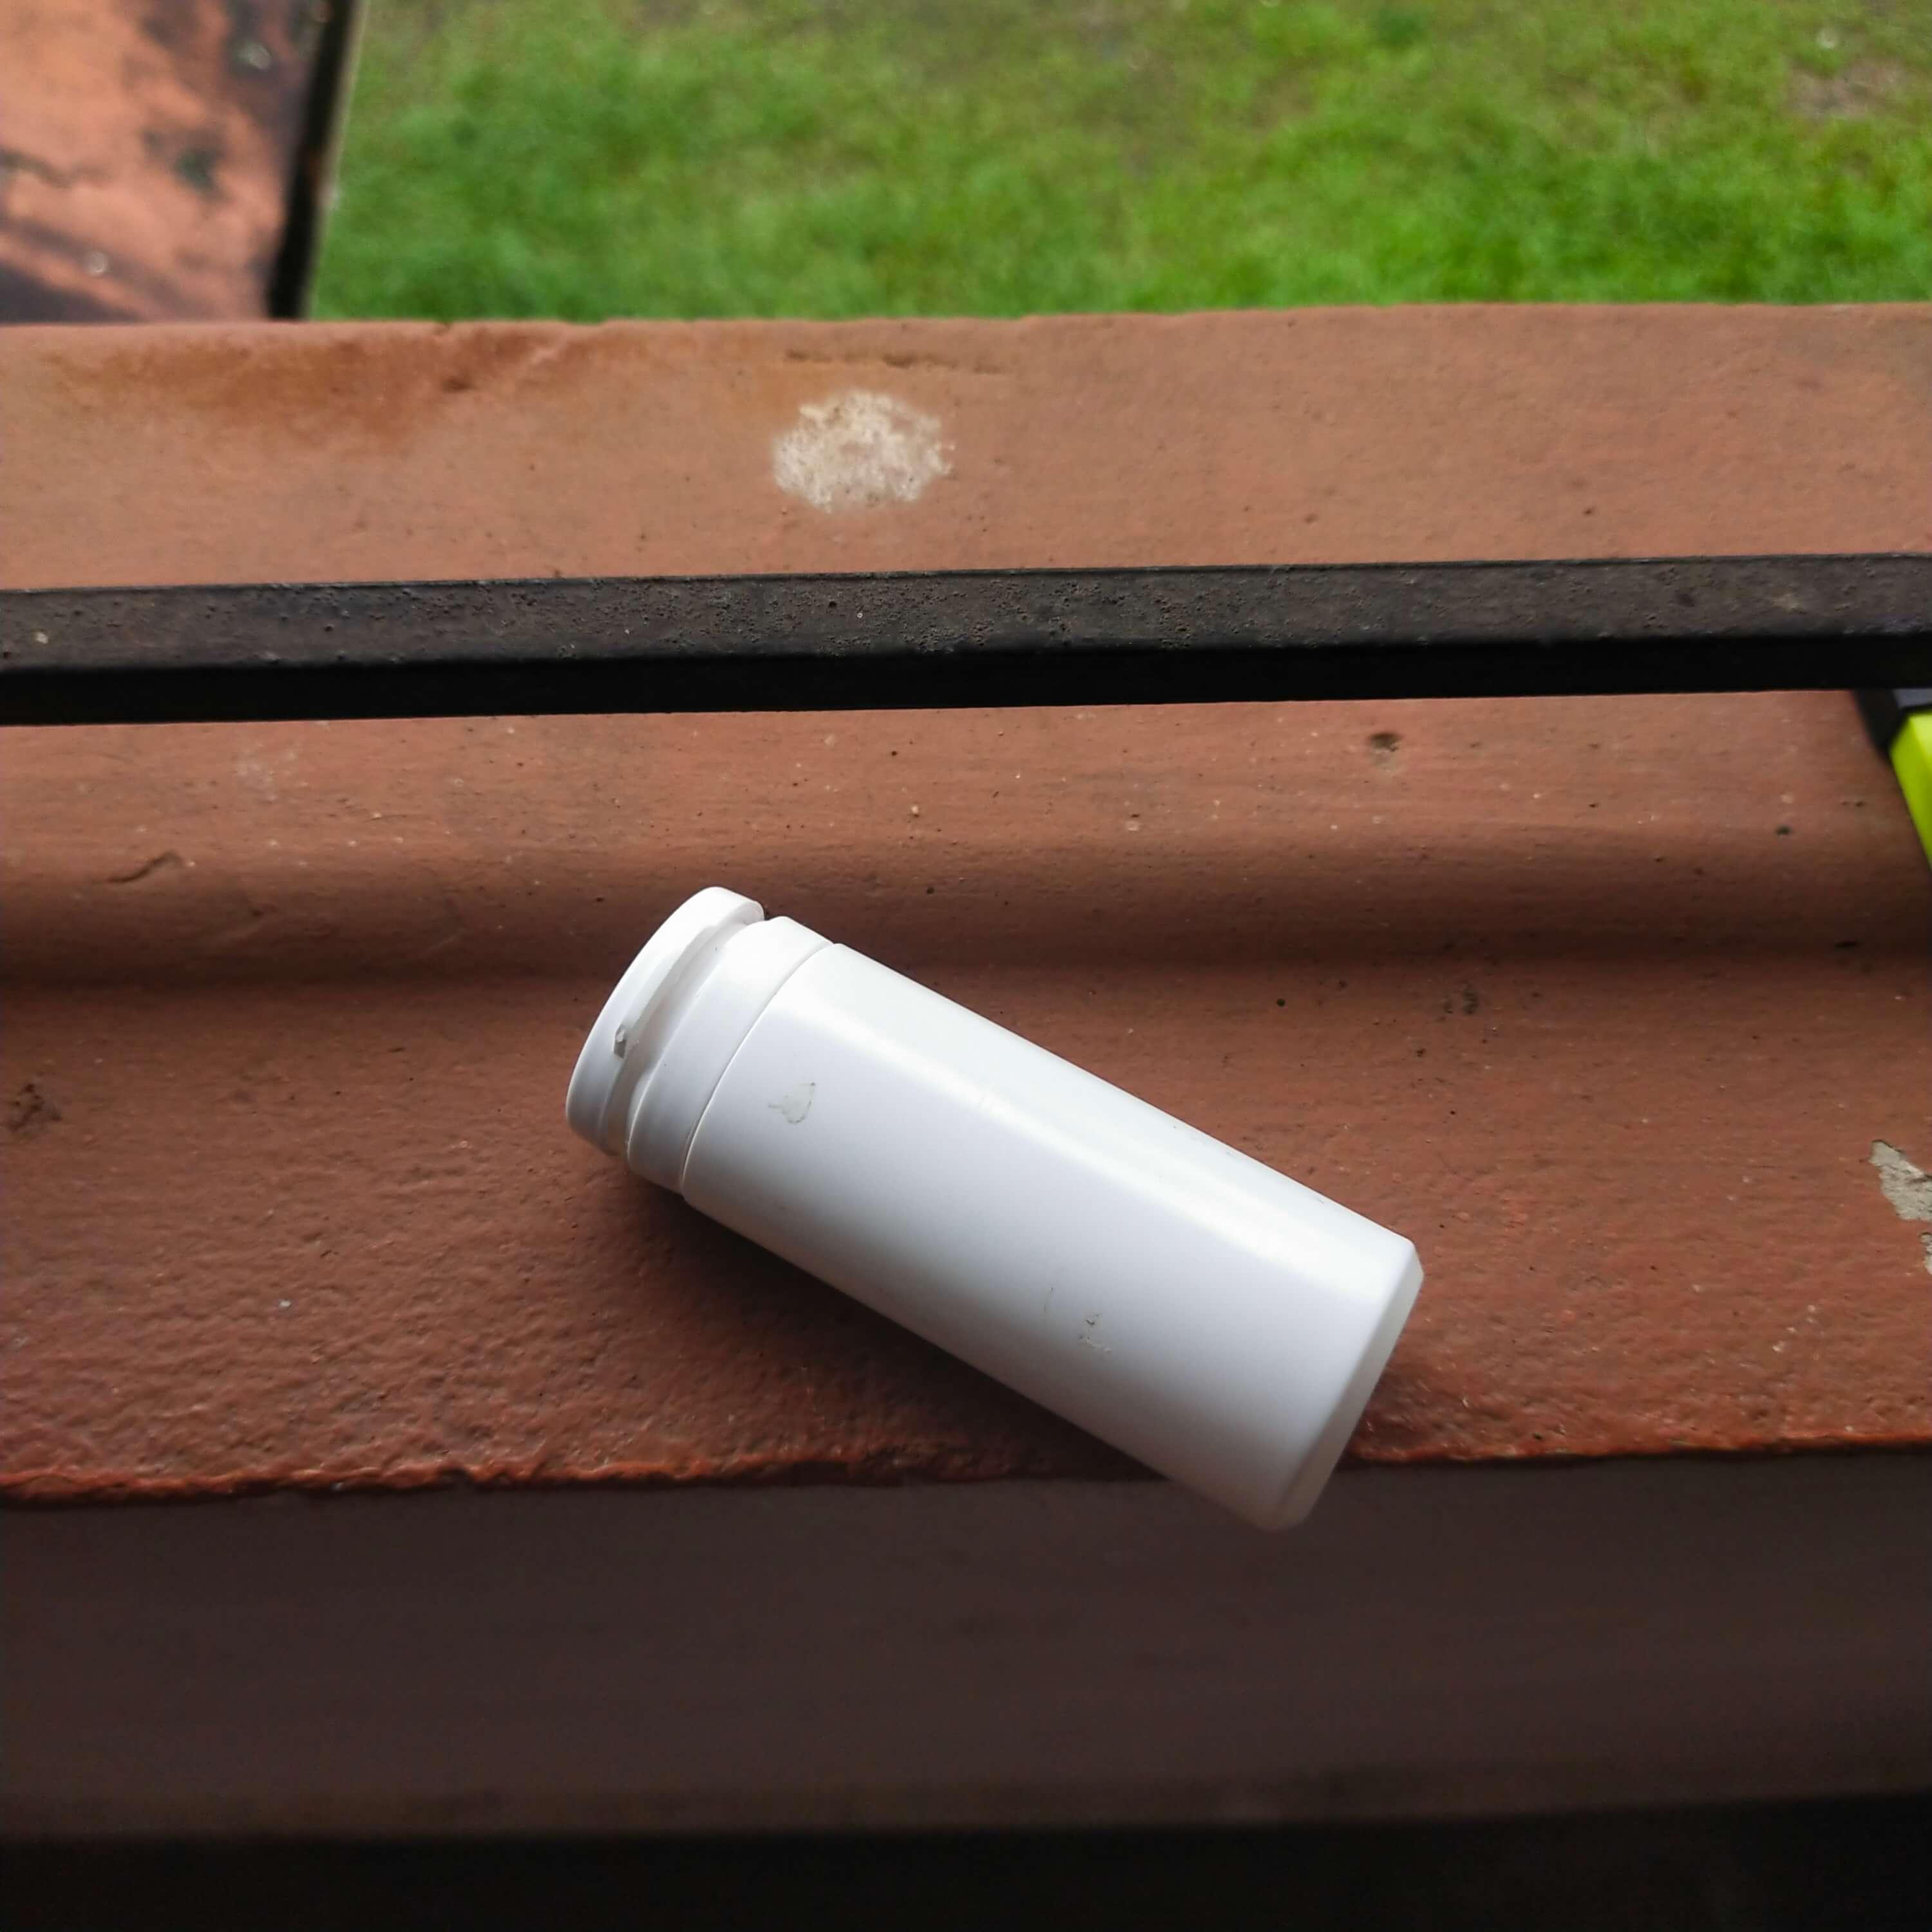plastic box: (518, 855, 1472, 1559)
